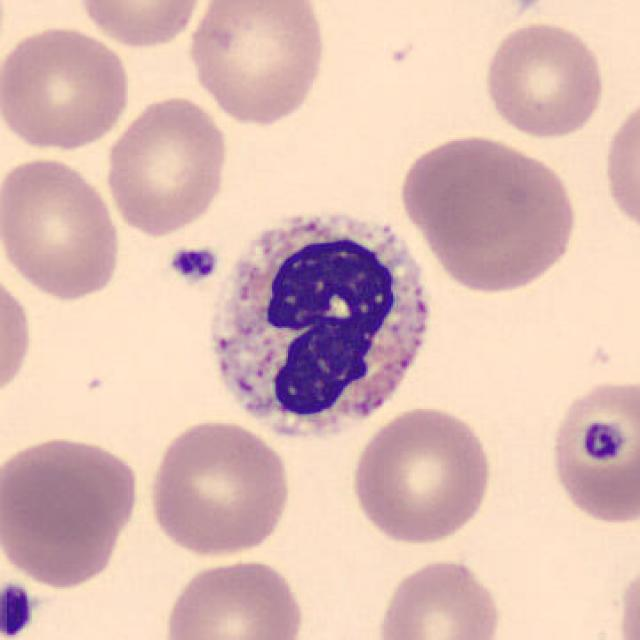Neutrophil: (194, 199, 448, 452)
Platelets: (574, 410, 632, 464), (167, 243, 222, 286), (0, 580, 37, 640)
RBC: (412, 134, 582, 296), (142, 416, 294, 559), (347, 402, 496, 547), (0, 430, 142, 577), (99, 92, 233, 238), (183, 0, 331, 129), (0, 154, 126, 304), (0, 22, 135, 154), (480, 18, 608, 141), (544, 370, 638, 531), (159, 553, 309, 640), (371, 553, 506, 640), (73, 0, 208, 49), (599, 90, 640, 243), (0, 264, 36, 409), (615, 553, 640, 640)
